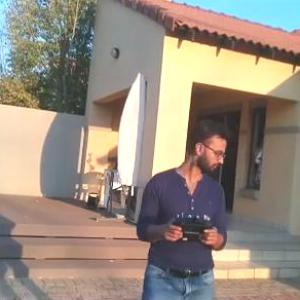follow: (133, 113, 235, 299)
